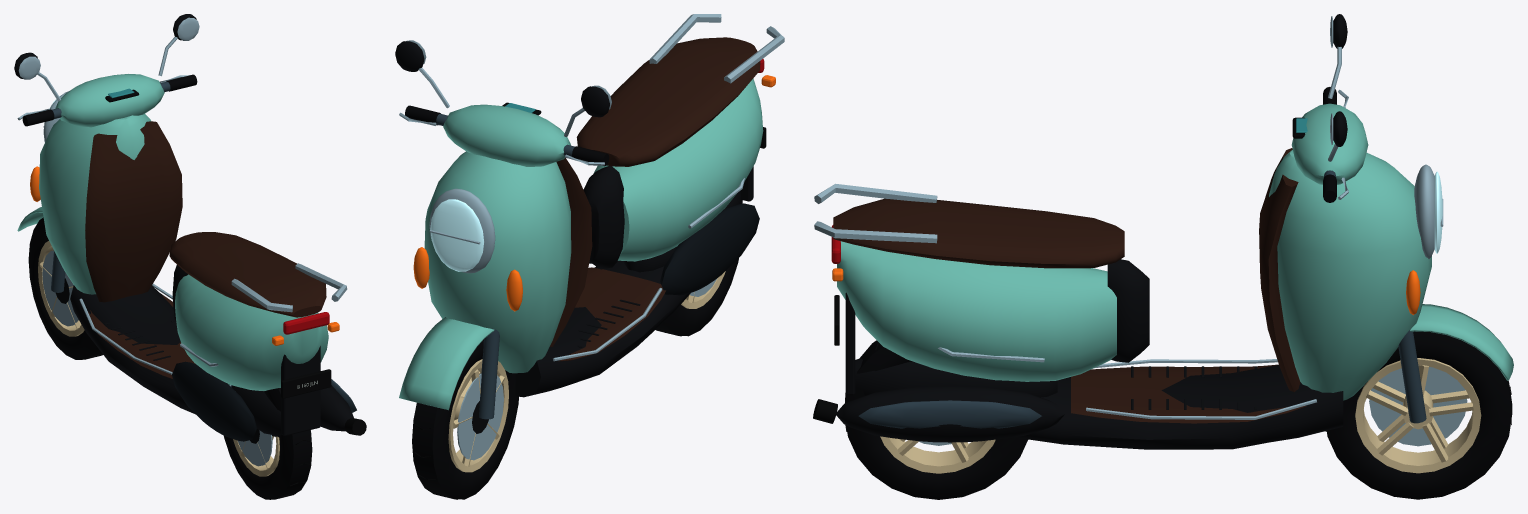
The model's file is retro_scooter_mint.glb.
3 renders of one model, left to right at view 1: azimuth 30°, elevation 25°; view 2: azimuth 150°, elevation 25°; view 3: azimuth 270°, elevation 25°, orthographic. The views are drawn at different scales.
Parts seen in each view (by area): view 1: Body_Mesh, Steering_Pivot_Mesh, Wheel_Rear_Mesh, Wheel_Front_Mesh, TailLights_Mesh, Indicators_Mesh; view 2: Body_Mesh, Steering_Pivot_Mesh, Wheel_Front_Mesh, Headlights_Mesh, Wheel_Rear_Mesh, Indicators_Mesh; view 3: Body_Mesh, Wheel_Front_Mesh, Steering_Pivot_Mesh, Wheel_Rear_Mesh, Headlights_Mesh.
Boxes of the visible parts, bbox=[...] form: Body_Mesh: bbox=[39, 114, 366, 441]; Steering_Pivot_Mesh: bbox=[14, 14, 199, 292]; Wheel_Rear_Mesh: bbox=[224, 388, 312, 499]; Wheel_Front_Mesh: bbox=[28, 217, 102, 359]; TailLights_Mesh: bbox=[283, 312, 329, 334]; Indicators_Mesh: bbox=[30, 166, 339, 345]; Body_Mesh: bbox=[424, 14, 784, 397]; Steering_Pivot_Mesh: bbox=[395, 40, 611, 419]; Wheel_Front_Mesh: bbox=[412, 339, 518, 499]; Headlights_Mesh: bbox=[429, 188, 495, 273]; Wheel_Rear_Mesh: bbox=[656, 198, 742, 336]; Indicators_Mesh: bbox=[413, 75, 775, 311]; Body_Mesh: bbox=[813, 148, 1431, 449]; Wheel_Front_Mesh: bbox=[1325, 331, 1512, 499]; Steering_Pivot_Mesh: bbox=[1291, 14, 1513, 423]; Wheel_Rear_Mesh: bbox=[844, 340, 1028, 499]; Headlights_Mesh: bbox=[1414, 164, 1443, 258].
Size of the model in its own units: 0.694 by 1.24 by 1.83.
2 materials, 1 textured.
